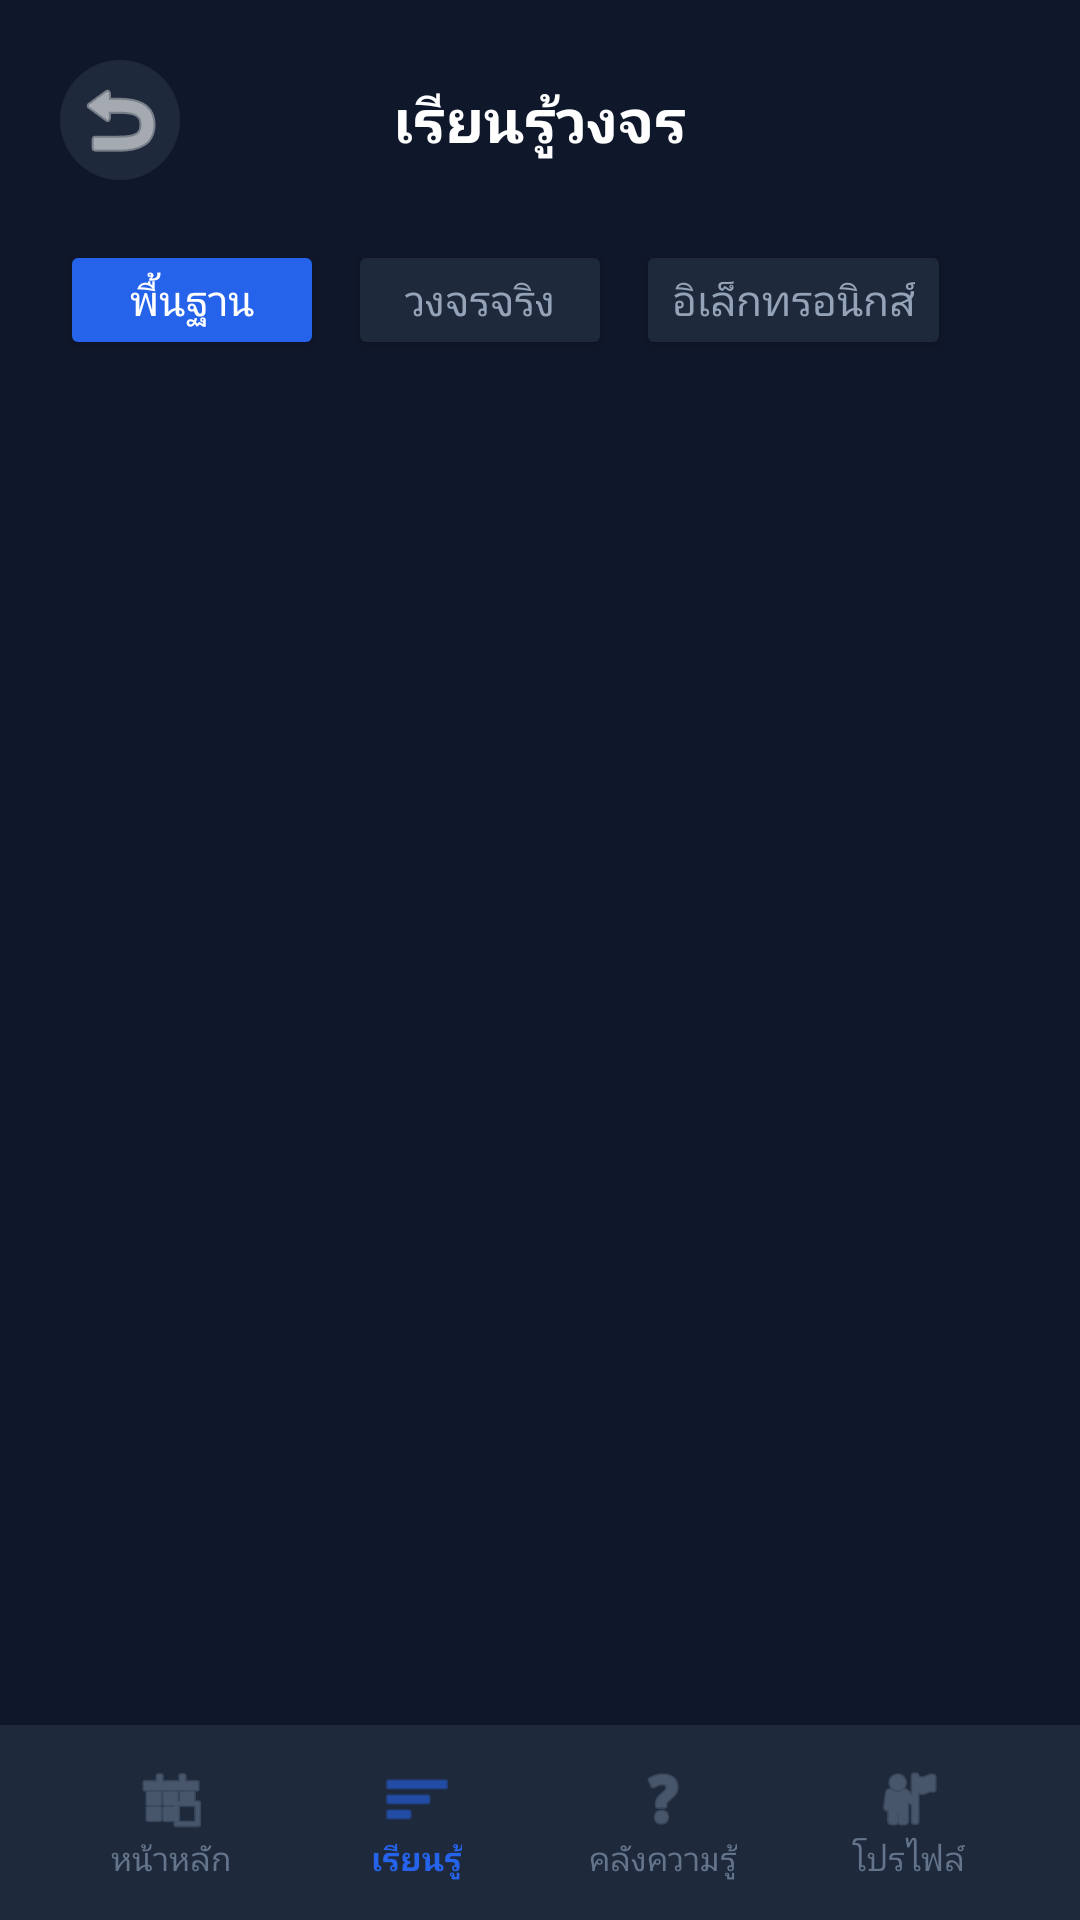

Point at icon controls on the screen. Image size 1080w x 1920h, points as [x,y].
help: [663,1799]
myplaces: [909,1799]
revert: [121,120]
sort by size: [417,1799]
today: [172,1800]
